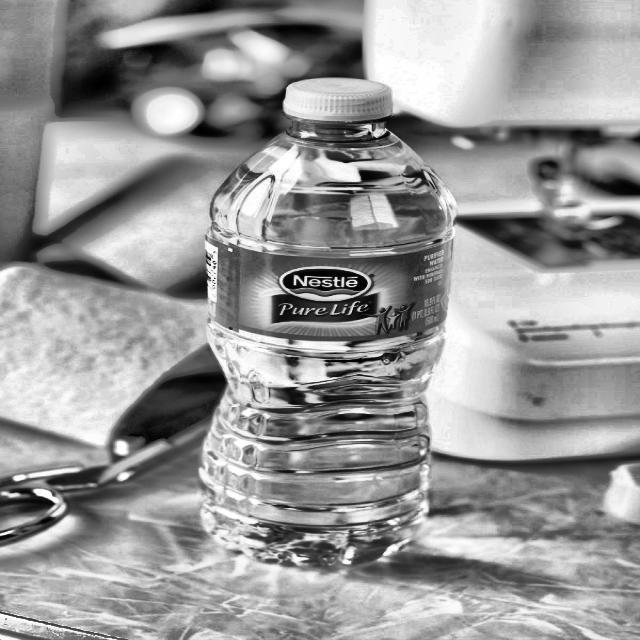waterbottle: (186, 68, 464, 582)
